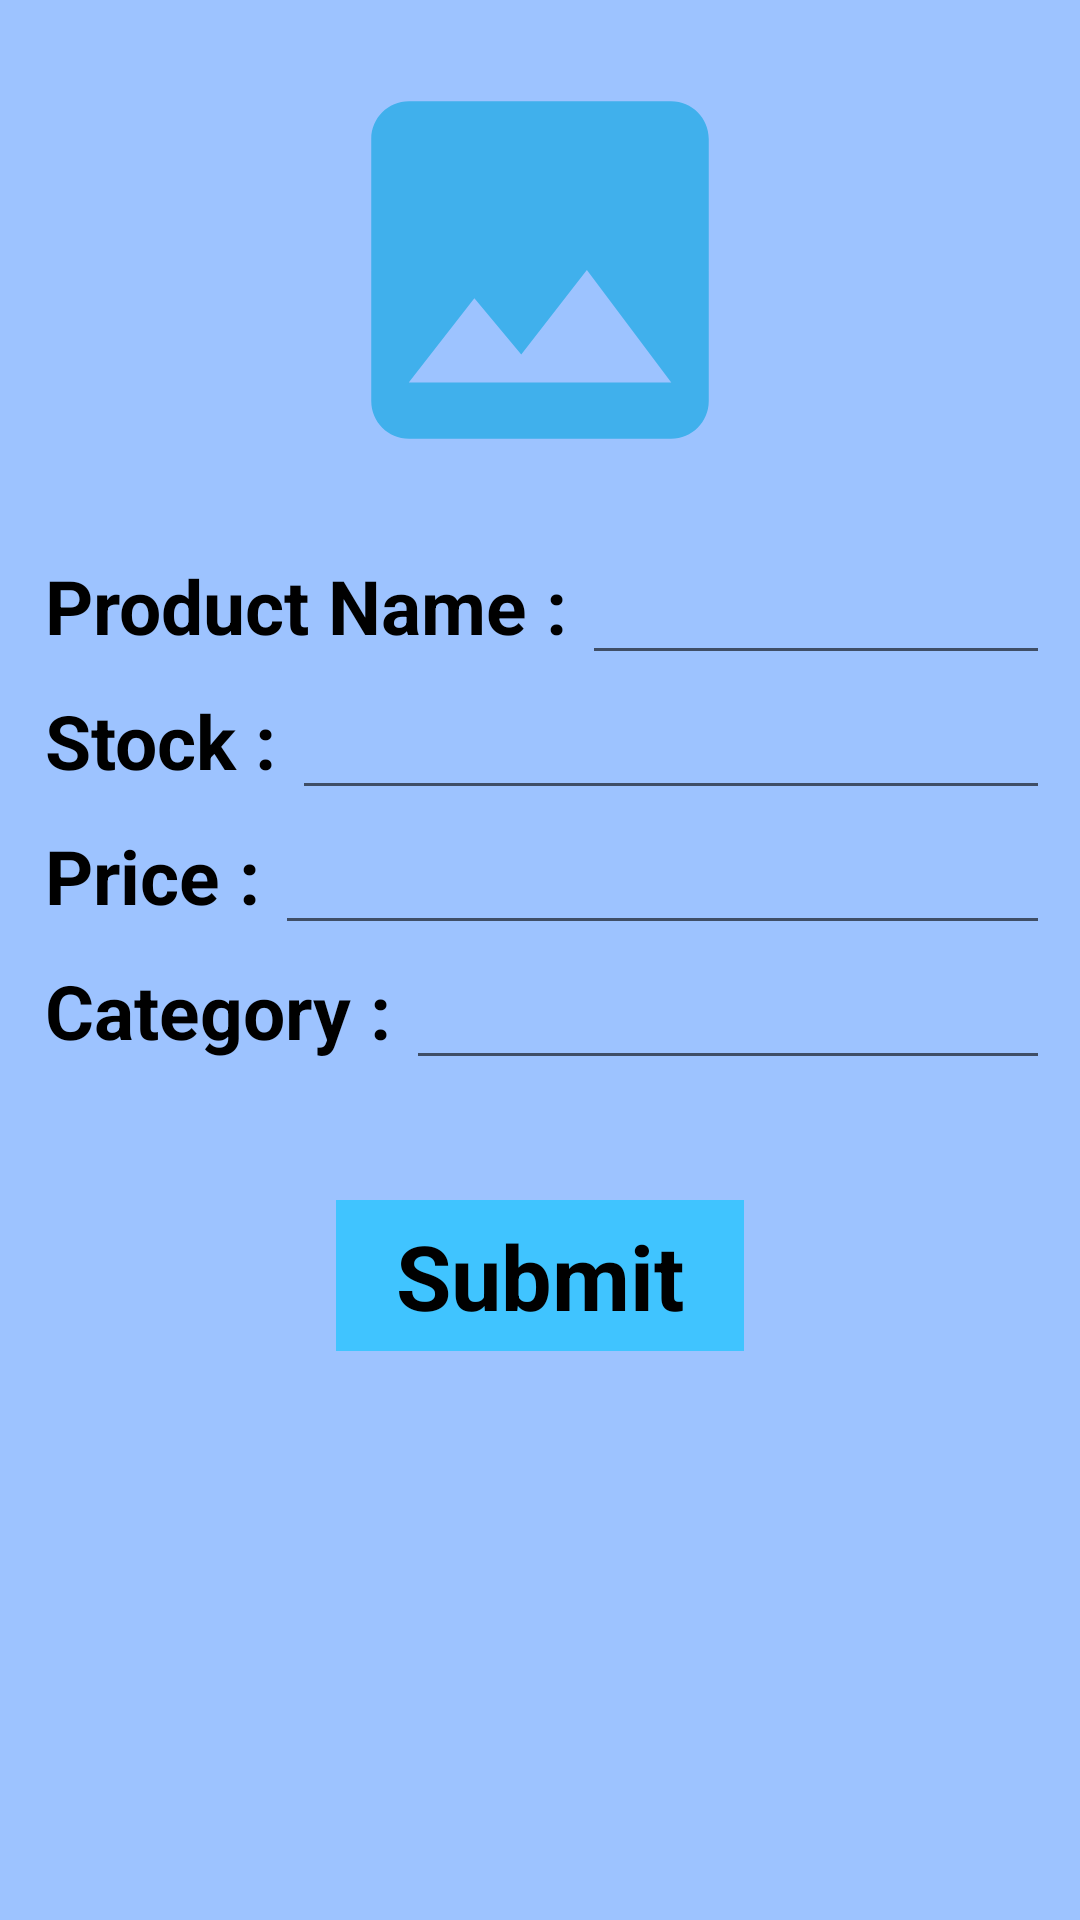

Screen size 1080 × 1920. Icon name, then its box in pixels as Rect(x1, y1, x2, y2):
photo: Rect(371, 101, 709, 439)
